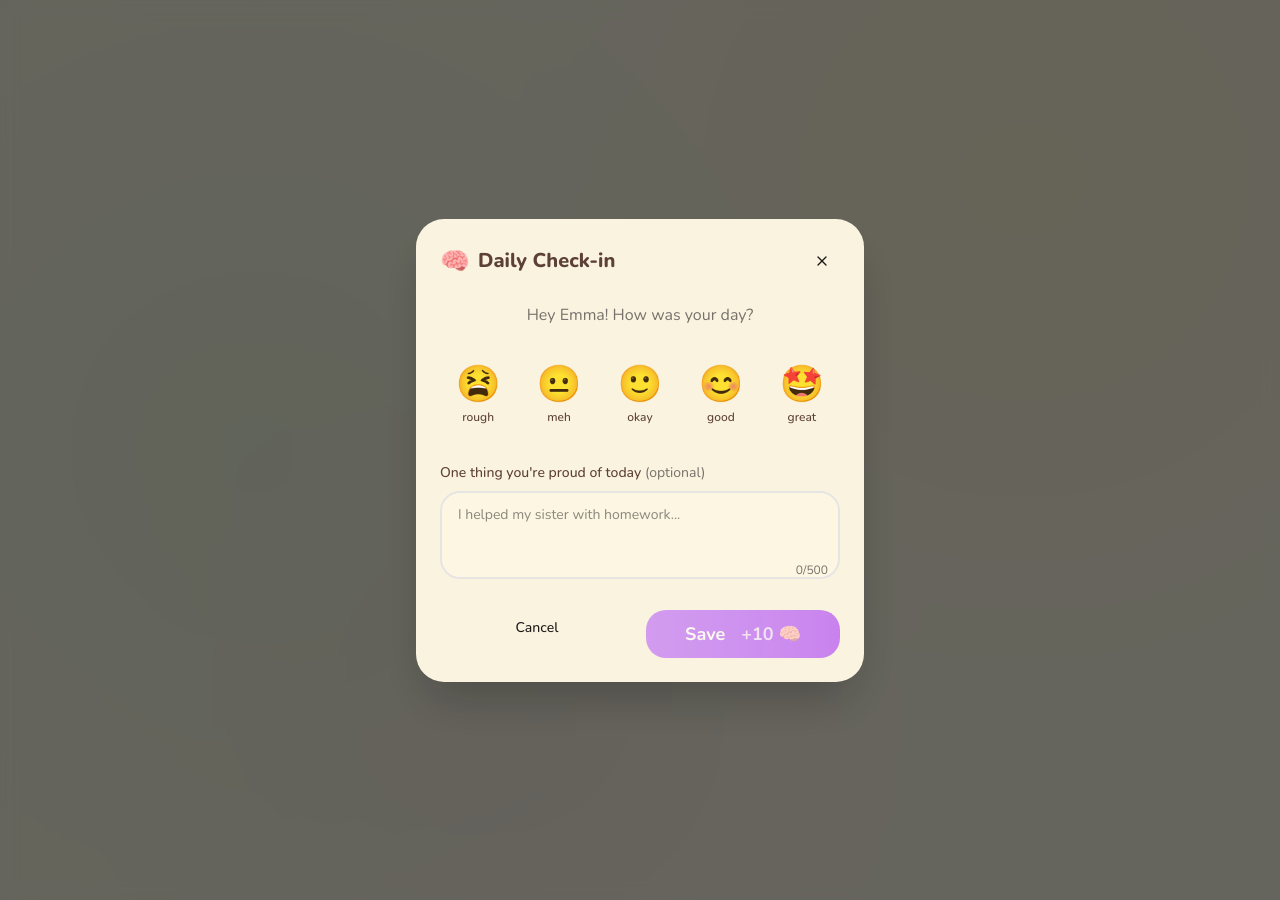
DailyCheckIn › Check-in Form › enables submit button after mood selection
// Select a mood
Click the text "🙂": (640, 384) [618, 364, 662, 404]
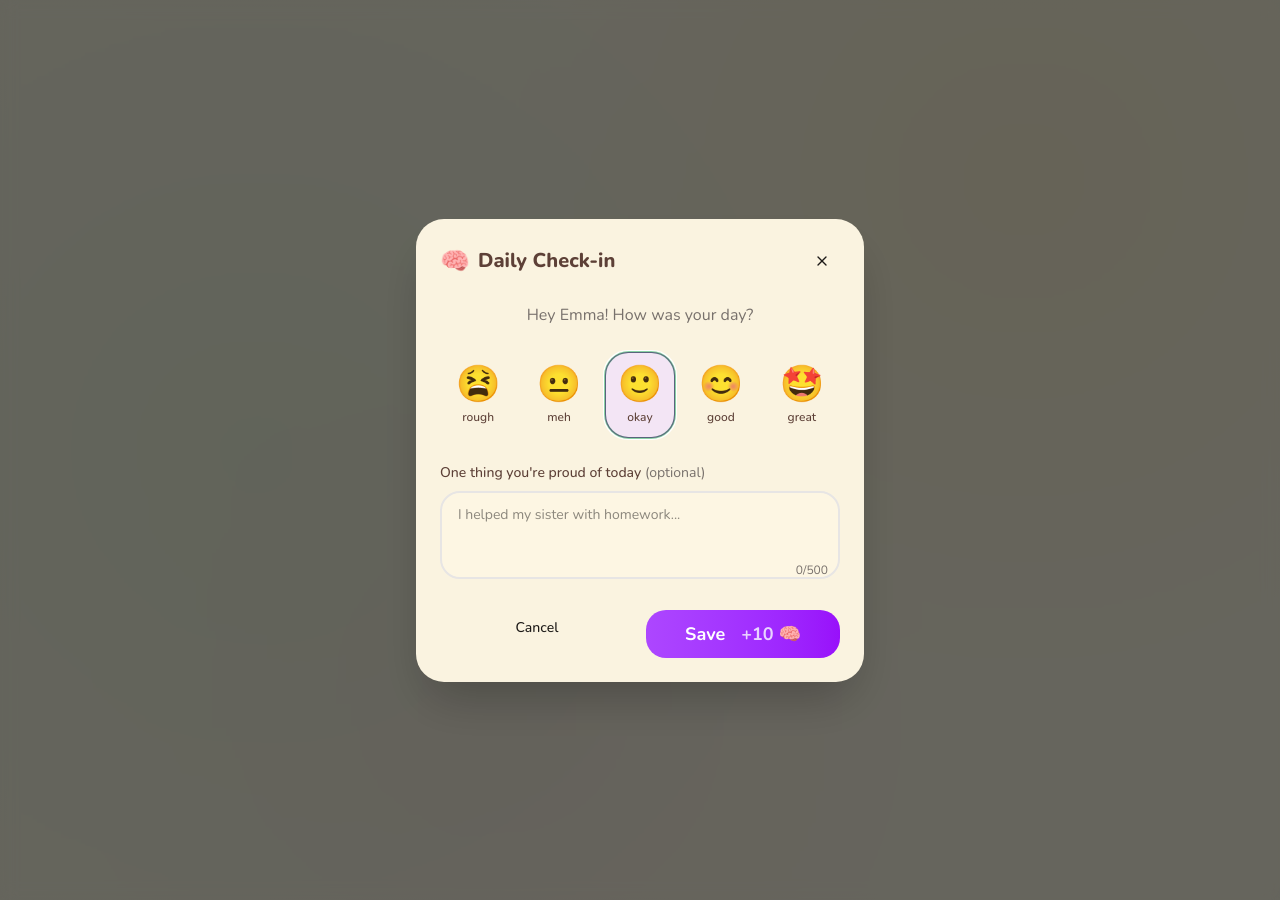
Expected: the button "Save +10 🧠" is enabled, [646, 610, 840, 658]
